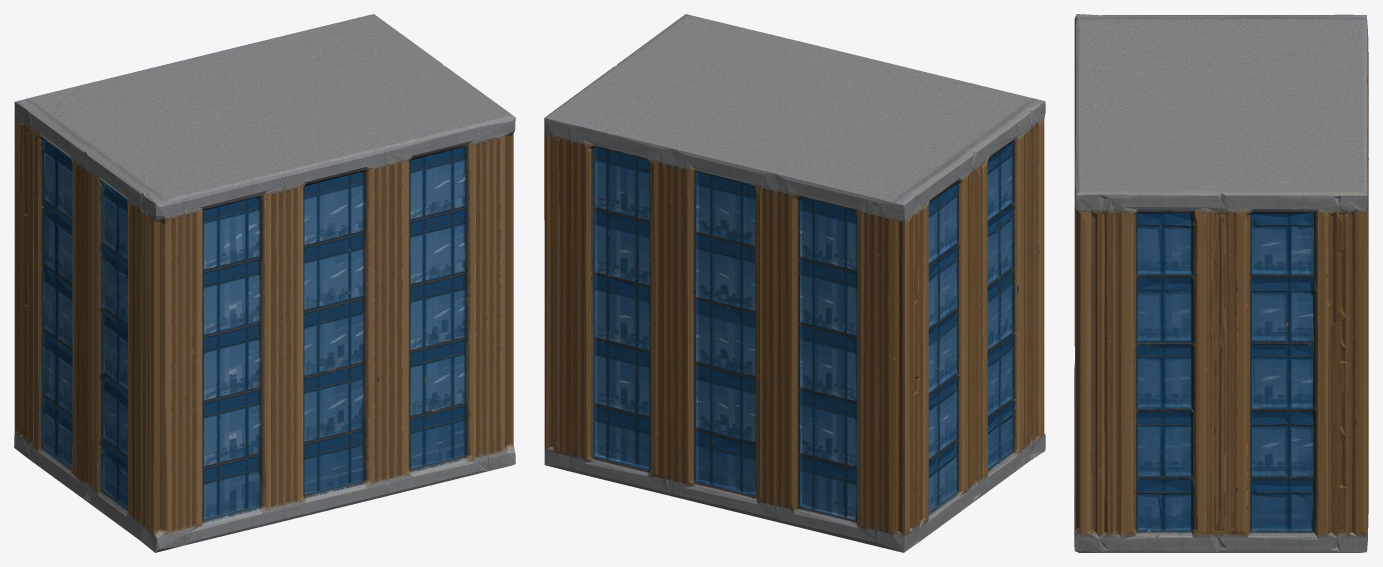
File: kit5-mid.glb
The picture shows the model from 3 angles, left to right: view 1: azimuth 30°, elevation 25°; view 2: azimuth 150°, elevation 25°; view 3: azimuth 270°, elevation 25°; orthographic projection. The views are drawn at different scales.
Visible parts, largest first — view 1: Mesh_0.001; view 2: Mesh_0.001; view 3: Mesh_0.001.
Part boxes in pixels (x1,y1,x2,y2): Mesh_0.001: (14, 14, 515, 552); Mesh_0.001: (544, 14, 1045, 552); Mesh_0.001: (1074, 14, 1368, 552).
Bounding box in the file's own units: 1 × 0.926 × 0.6864.
1 material, 1 textured.
